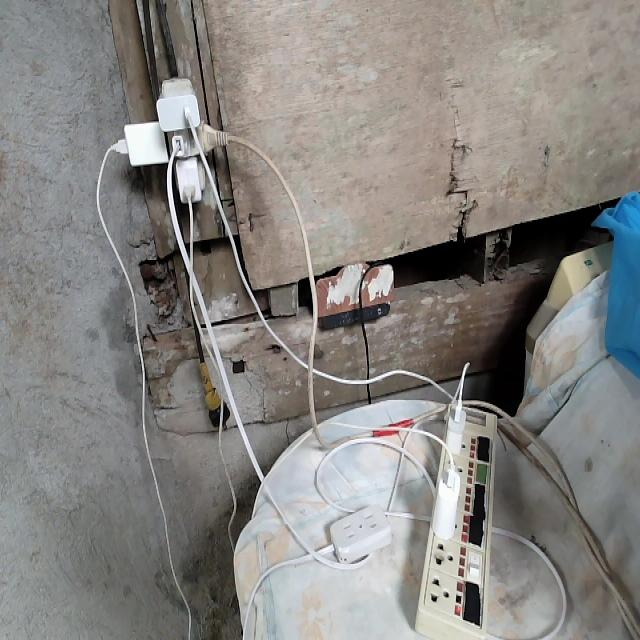-: (115, 71, 235, 205)
